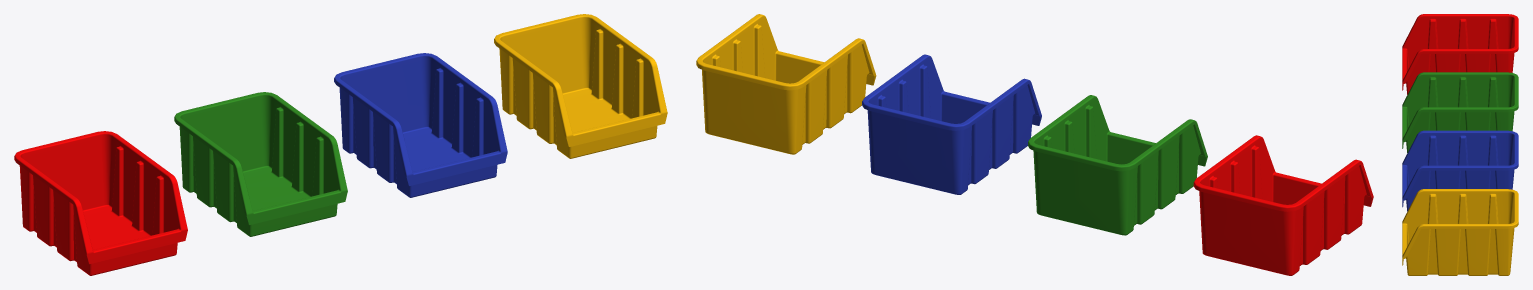
File: stackable_plastic_boxes.glb
3 views of the same model, side by side, from view 1: azimuth 30°, elevation 25°; view 2: azimuth 150°, elevation 25°; view 3: azimuth 270°, elevation 25° (orthographic). The views are drawn at different scales.
Parts seen in each view (by area): view 1: stackable_box_blue, stackable_box_red, stackable_box_yellow, stackable_box_green; view 2: stackable_box_red, stackable_box_green, stackable_box_yellow, stackable_box_blue; view 3: stackable_box_yellow, stackable_box_red, stackable_box_blue, stackable_box_green.
Boxes of the visible parts, bbox=[...] form: stackable_box_blue: bbox=[334, 53, 507, 197]; stackable_box_red: bbox=[14, 131, 187, 275]; stackable_box_yellow: bbox=[494, 14, 667, 158]; stackable_box_green: bbox=[174, 92, 347, 236]; stackable_box_red: bbox=[1193, 135, 1373, 275]; stackable_box_green: bbox=[1028, 95, 1207, 235]; stackable_box_yellow: bbox=[696, 14, 876, 154]; stackable_box_blue: bbox=[862, 54, 1041, 194]; stackable_box_yellow: bbox=[1402, 189, 1518, 275]; stackable_box_red: bbox=[1402, 14, 1518, 94]; stackable_box_blue: bbox=[1402, 130, 1518, 211]; stackable_box_green: bbox=[1402, 72, 1518, 152].
Bounding box in the file's own units: 1.09 × 0.1281 × 0.2535.
1 material, 1 textured.
